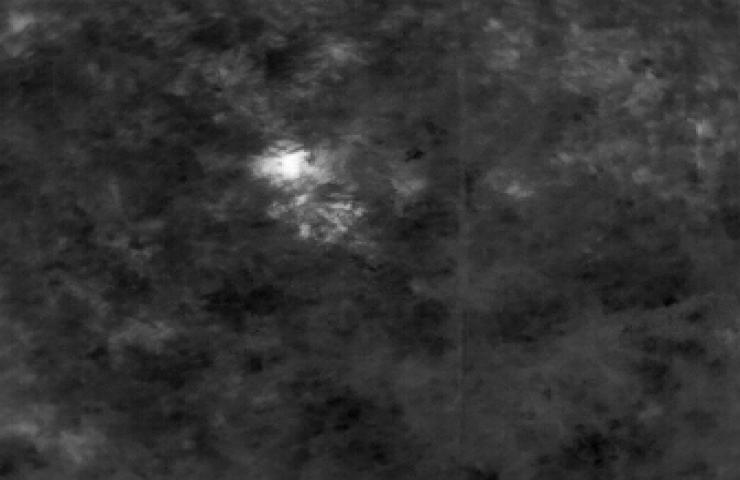landmines: (255, 135, 344, 194)
